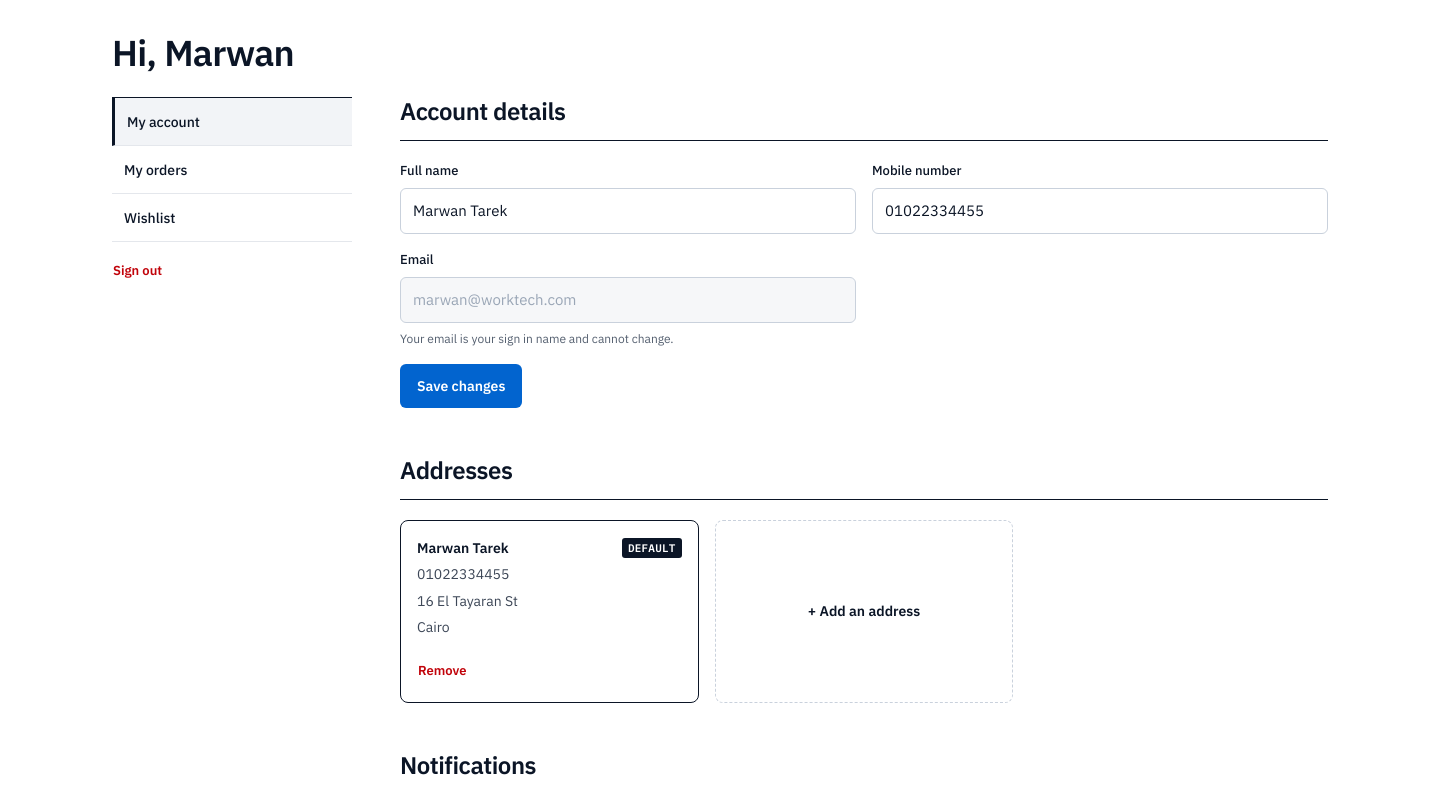
saves the account details
Replace the text in the field labelled "Mobile number" with "01111111111": (1100, 211) [872, 188, 1328, 234]
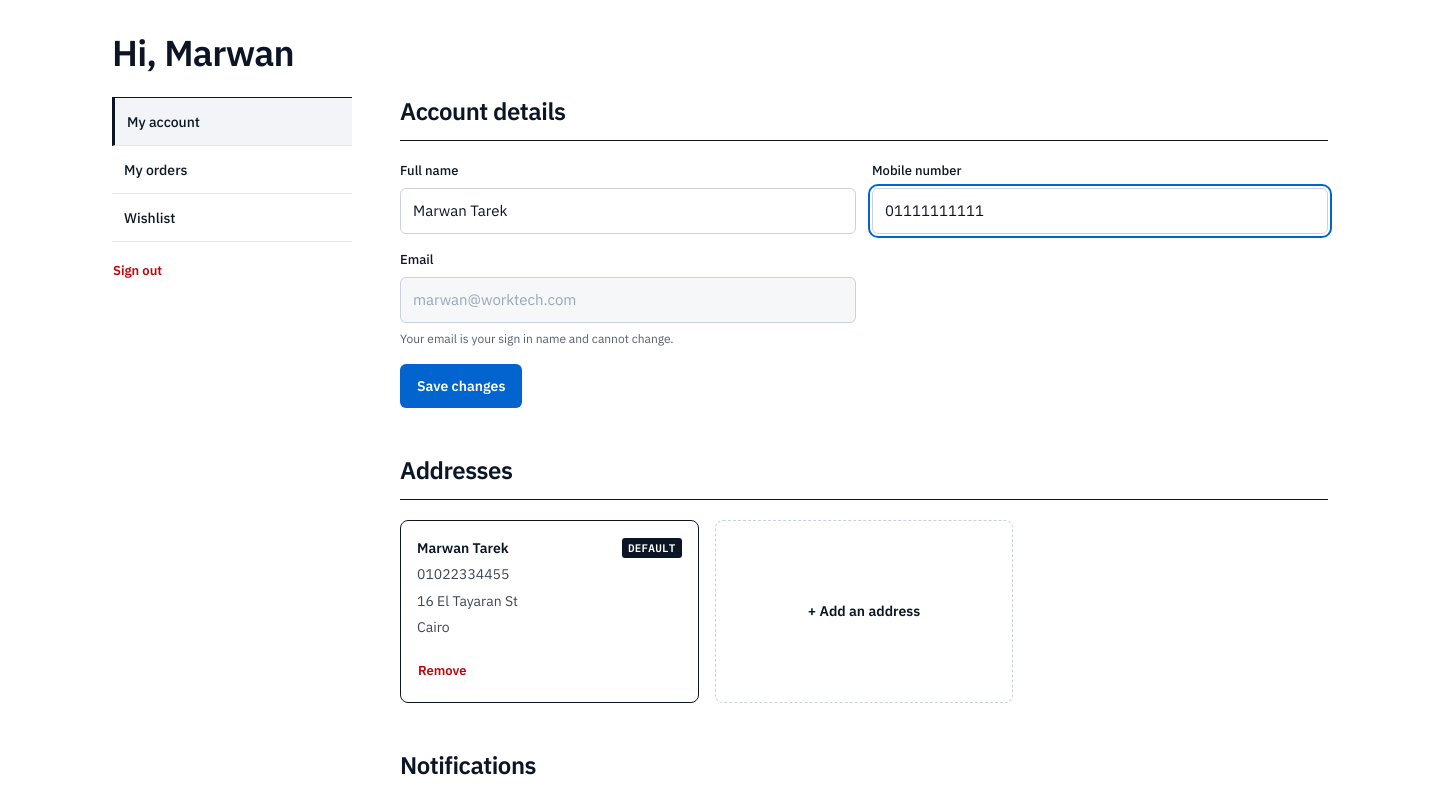
Click the button "Save changes": click(461, 386) [400, 364, 522, 408]
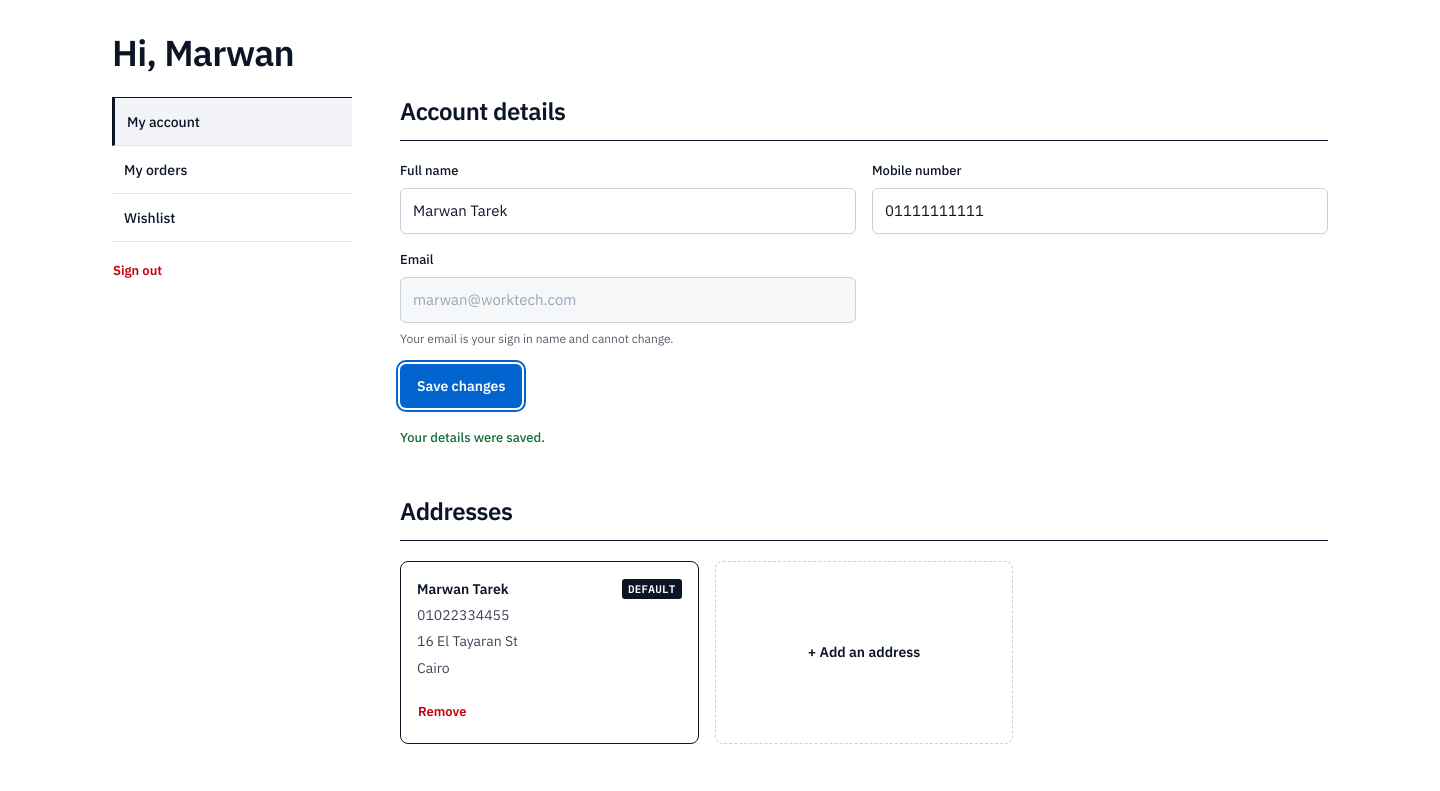
Check: the text "Your details were saved." is shown, box [400, 429, 545, 446]
